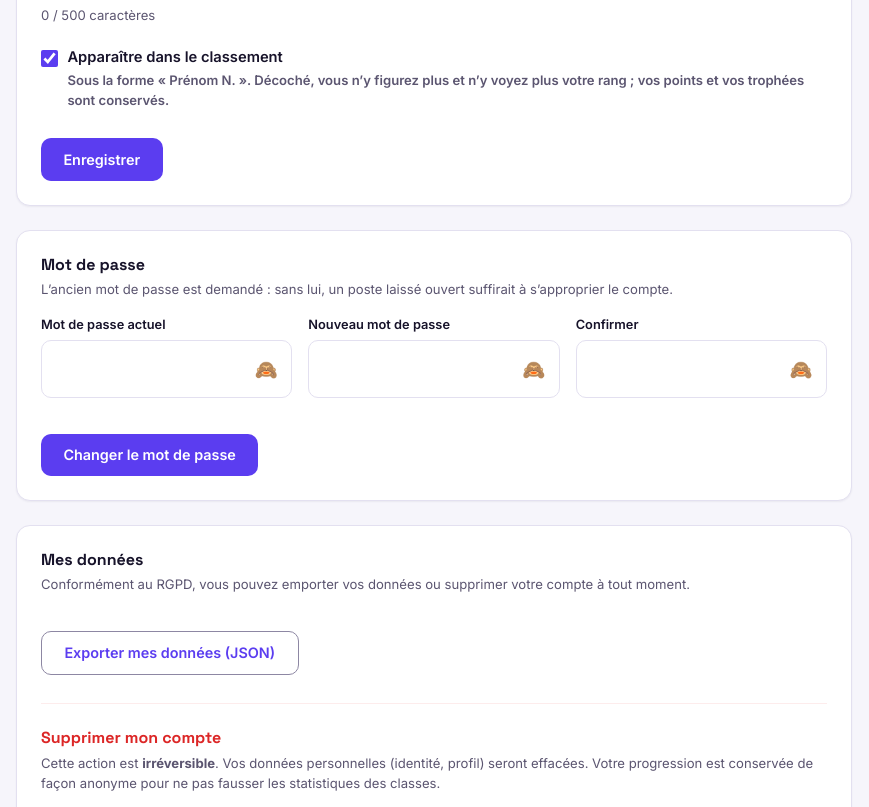
Test: ProfilePage › refuse un changement de mot de passe mal confirmé sans appeler l’API
(page scrolled)
Type "ancien-mdp" into the password field labelled "Mot de passe actuel" at x=167, y=369, box [41, 340, 292, 398]
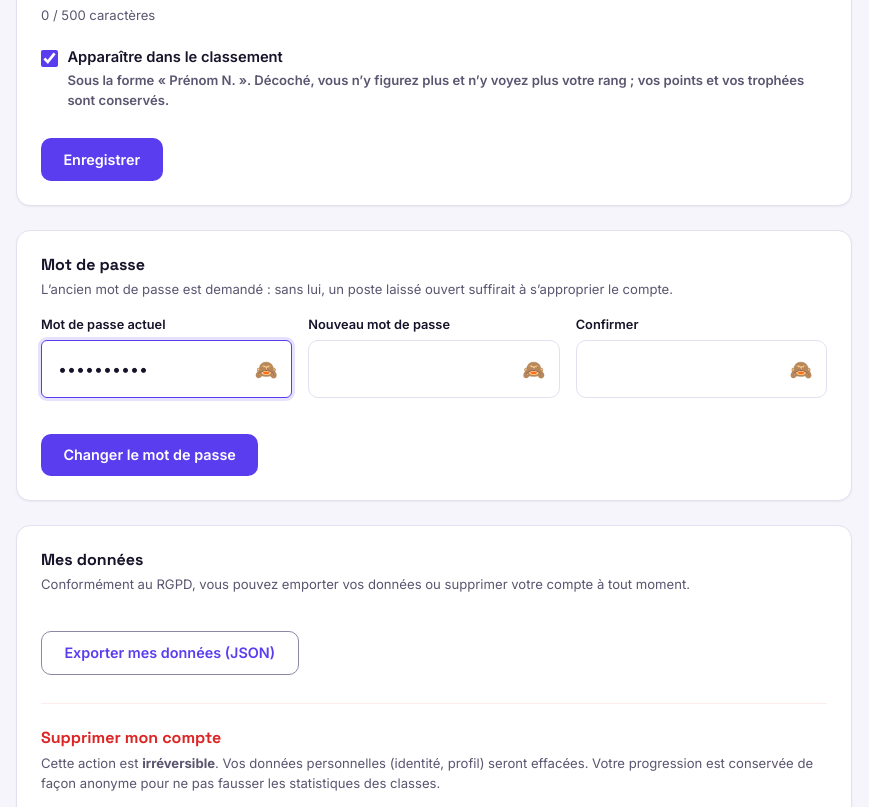
Type "nouveau-mdp-solide" into the password field labelled "Nouveau mot de passe" at x=434, y=369, box [308, 340, 560, 398]
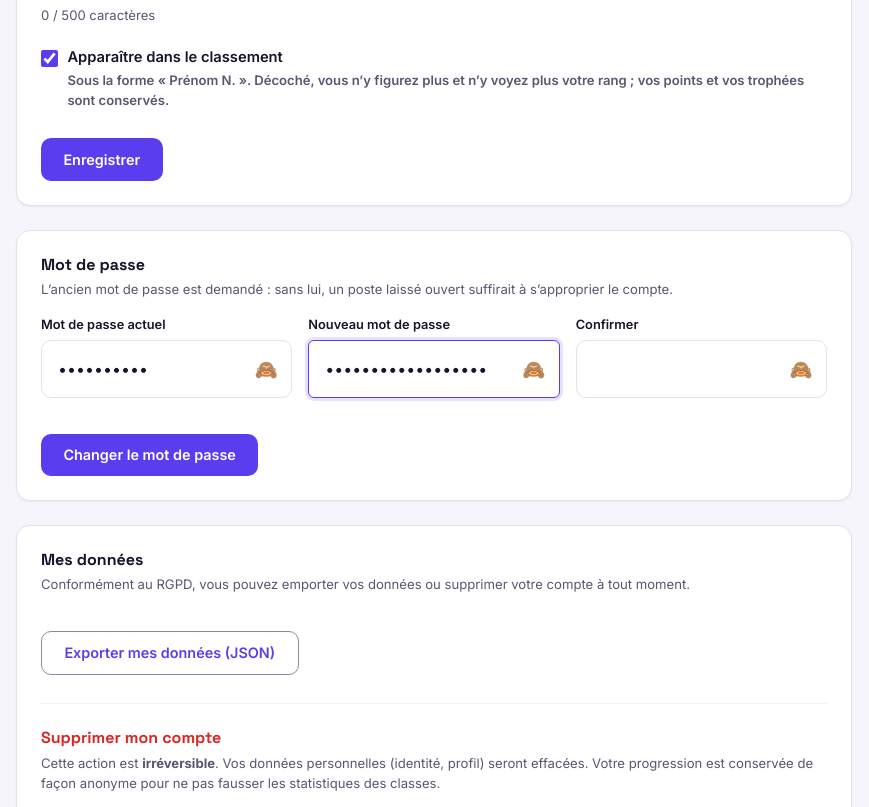
Type "faute-de-frappe" into the password field labelled "Confirmer" at x=701, y=369, box [576, 340, 827, 398]
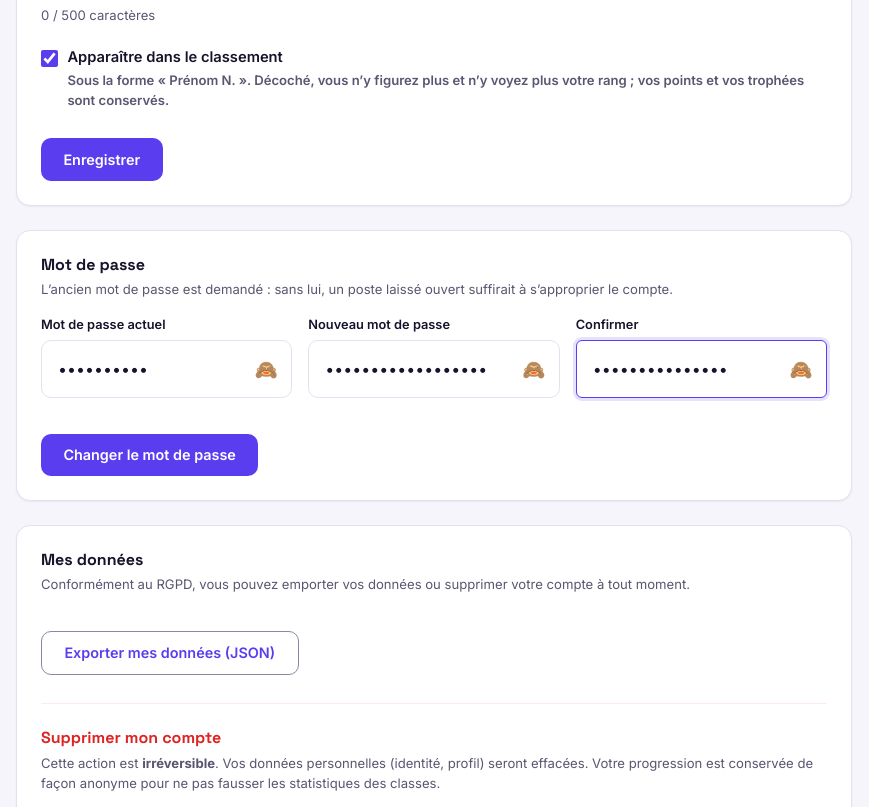
Click the button "Changer le mot de passe" at x=150, y=455, box [41, 434, 258, 476]
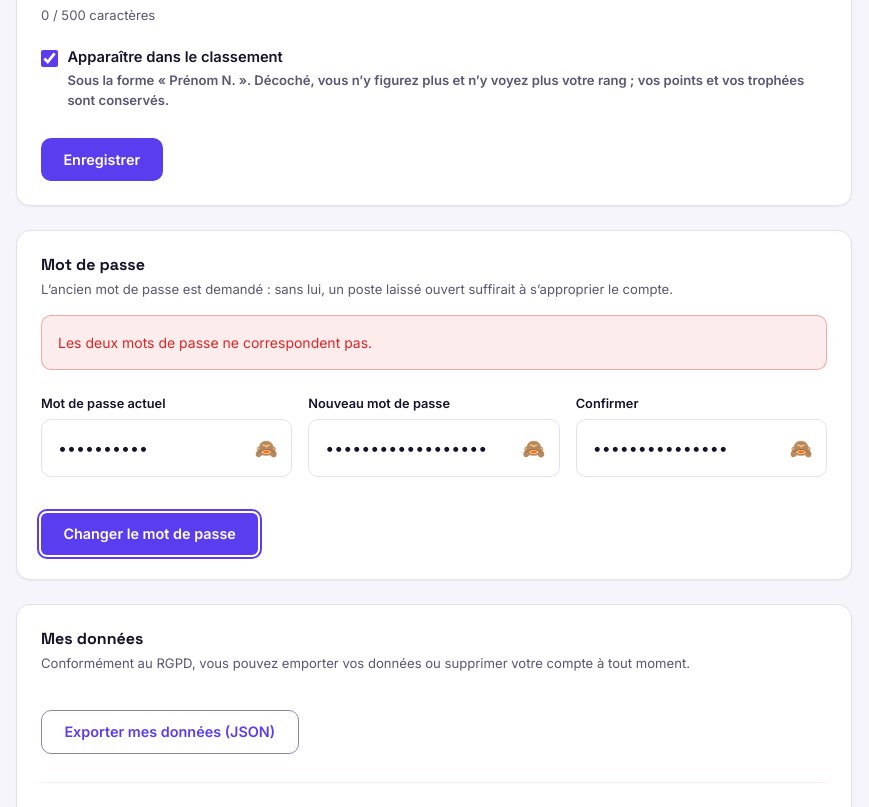
Expected: the message shows "ne correspondent pas", [58, 334, 372, 351]
